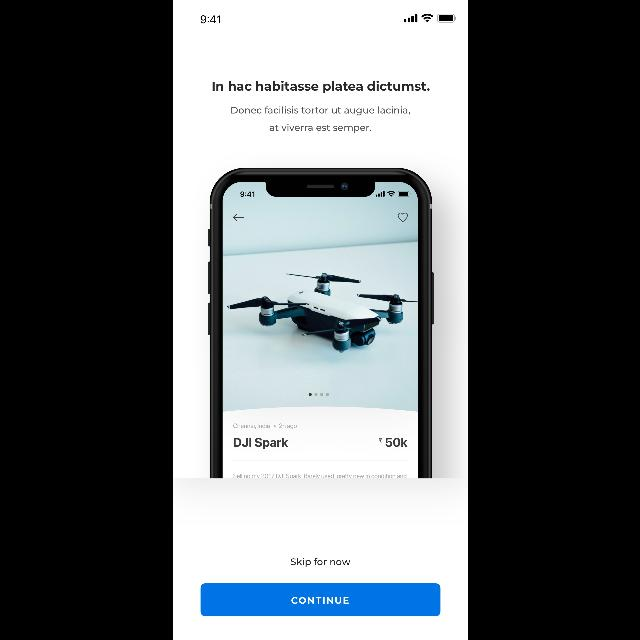image: (206, 168, 434, 478)
text: (230, 107, 410, 133), (212, 81, 428, 93), (290, 558, 350, 566)
textbutton: (200, 584, 440, 616)
uppertaskbar: (200, 14, 456, 24)
